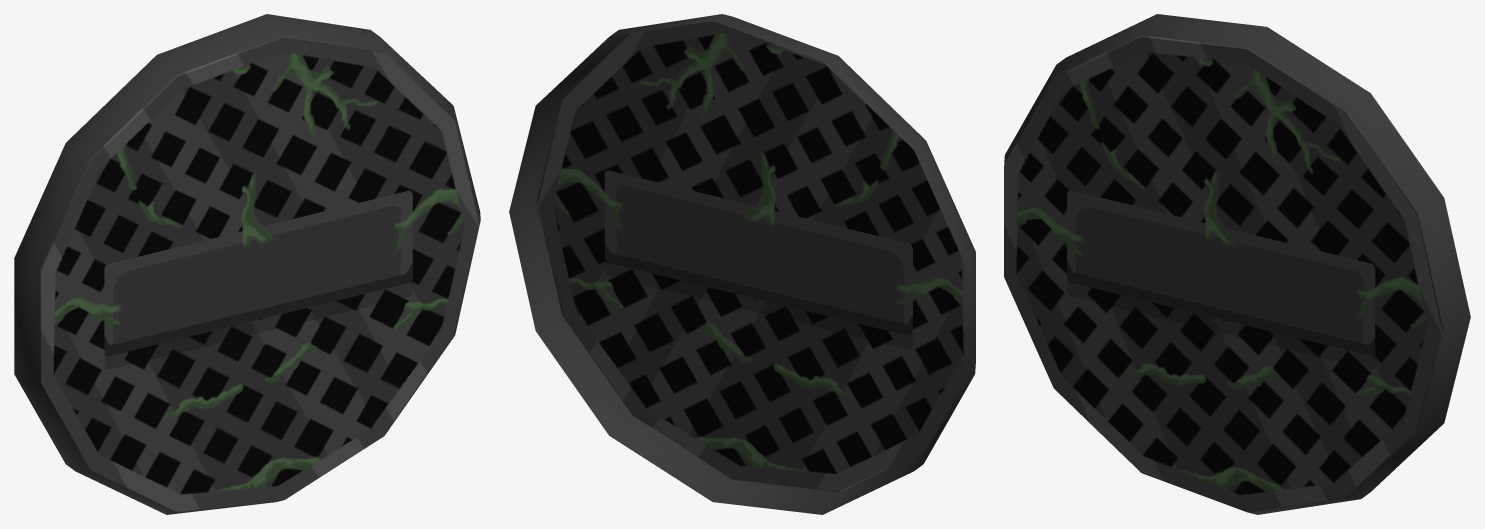
File: alcantarilla_hueco.fbx
The picture shows the model from 3 angles, left to right: view 1: azimuth 30°, elevation 25°; view 2: azimuth 150°, elevation 25°; view 3: azimuth 330°, elevation 25°; orthographic projection.
Parts seen in each view (by area): view 1: Porta de Esgoto; view 2: Porta de Esgoto; view 3: Porta de Esgoto.
Boxes of the visible parts, <box> form: Porta de Esgoto: <box>14,14,480,514</box>; Porta de Esgoto: <box>509,14,975,514</box>; Porta de Esgoto: <box>1004,14,1470,514</box>.
Size of the model in its own units: 432 by 435 by 30.87.
